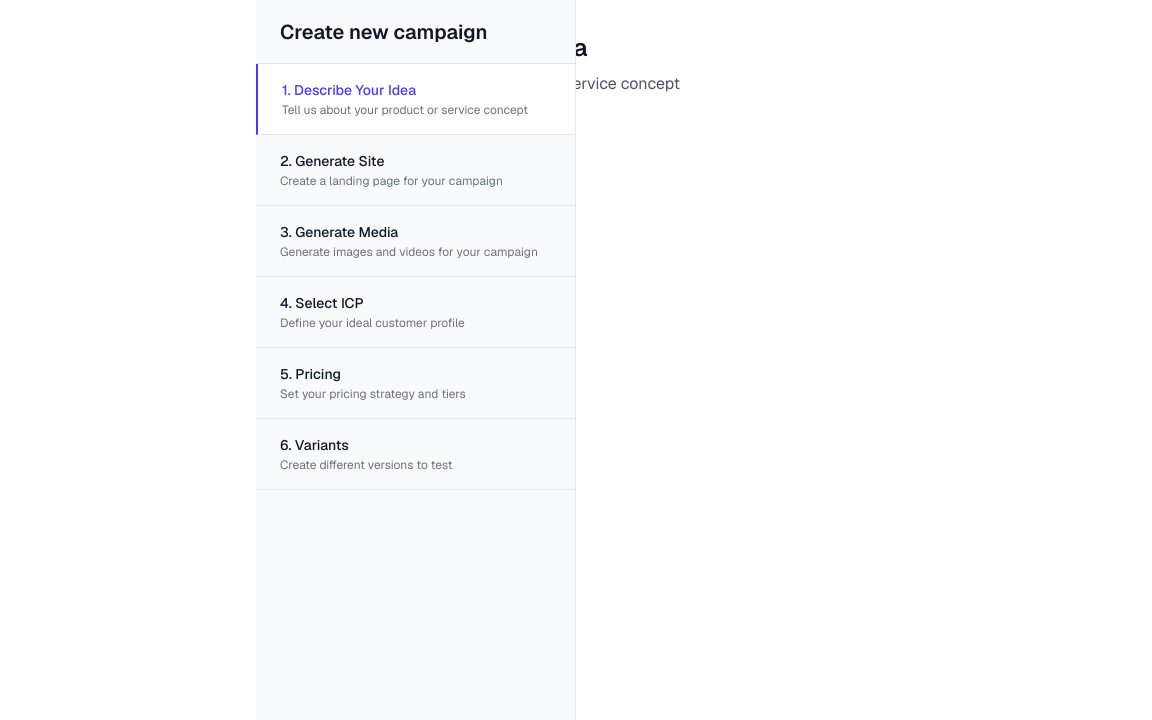
Scenario: CampaignContent component › updates main content when selecting Generate Site section
This screenshot has width=1152, height=720.
// Click on "Generate Site" section
Click the text "2. Generate Site".
click(332, 161)  # box x1=280 y1=151 x2=384 y2=171
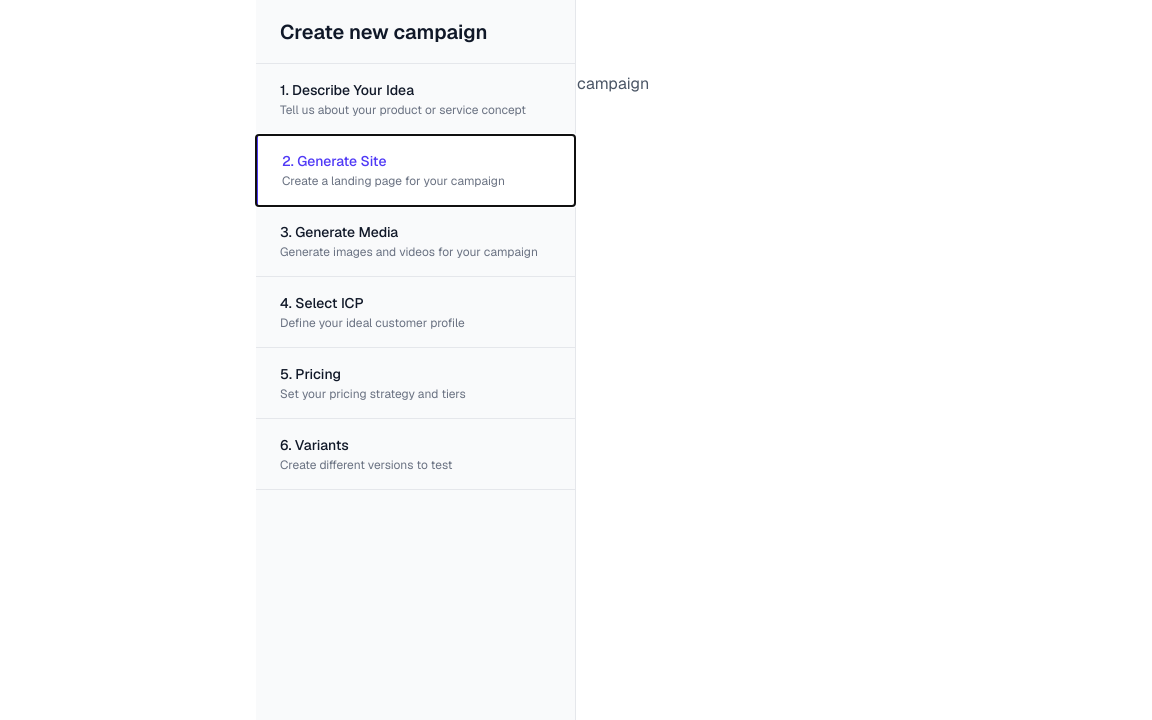
Expected: the heading "2. Generate Site" is shown, x1=352 y1=32 x2=536 y2=63
Now the element showing "2. Generate Site Create a landing page for your campaign" is shown
